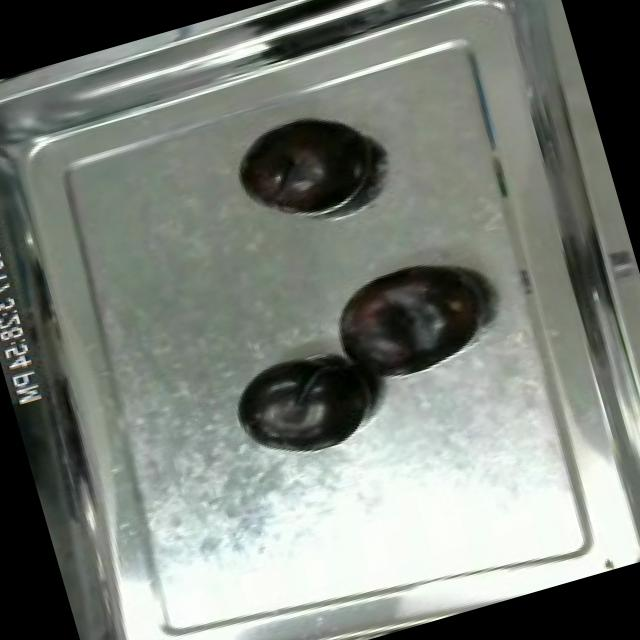Fruit: (316, 243, 494, 389), (220, 336, 388, 474), (224, 100, 382, 232)
